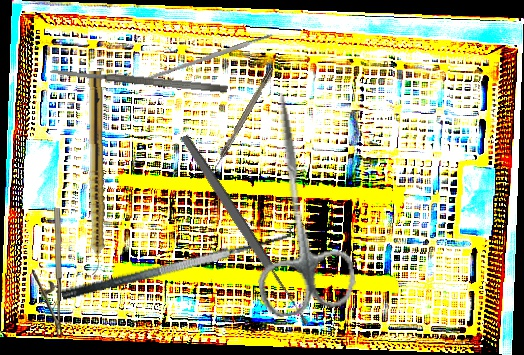Handpiece: (84, 70, 106, 276)
Hook Surgical: (208, 66, 276, 176)
Iris Scissors: (229, 86, 360, 320)
Needle Holder: (30, 207, 65, 338)
Scalpel Handle: (134, 32, 275, 86)
Spatula Surgical: (56, 216, 296, 303), (49, 65, 229, 95)
Surgical Spoon: (178, 133, 312, 328)
